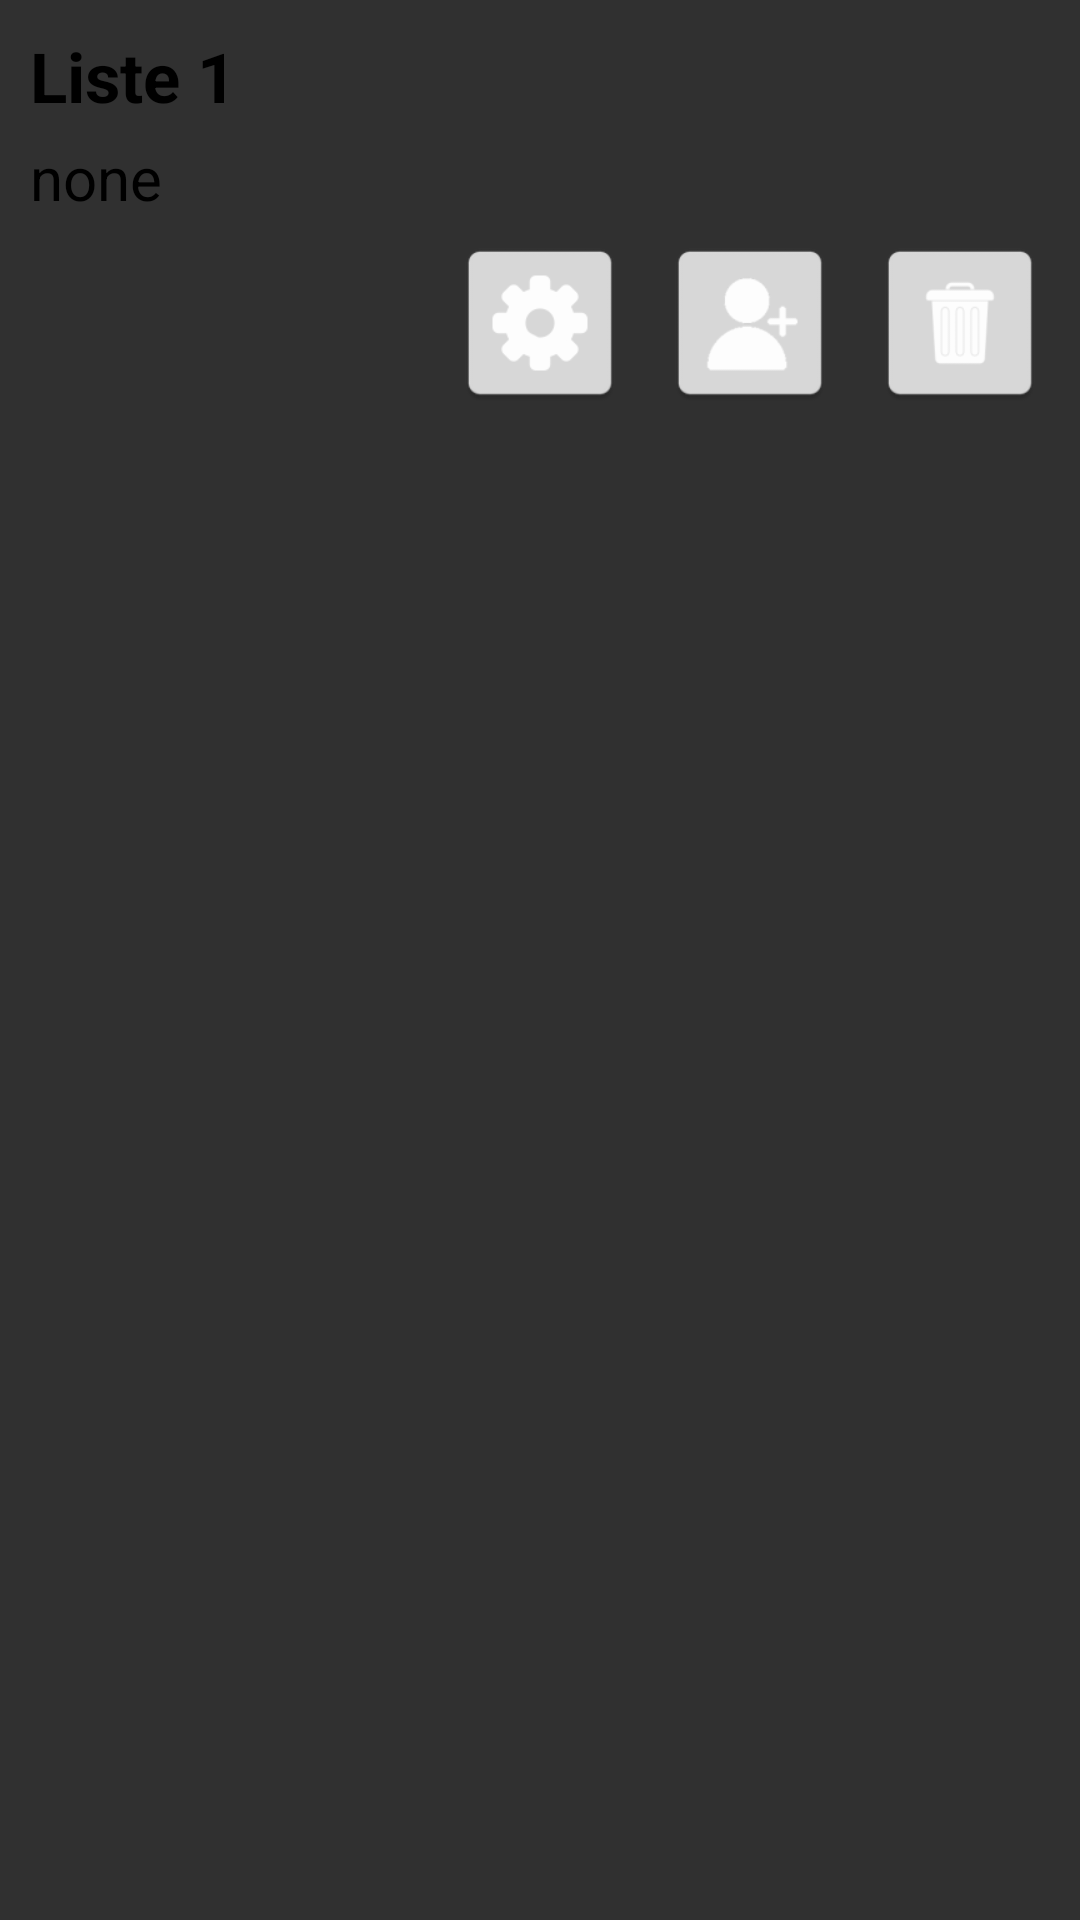

Named icons in this screenshot (1080w x 1920h) and their bounding boxes, (x1, y1, x2, y2):
add user: (678, 251, 822, 395)
settings: (468, 251, 612, 395)
trashcan: (888, 251, 1032, 395)
